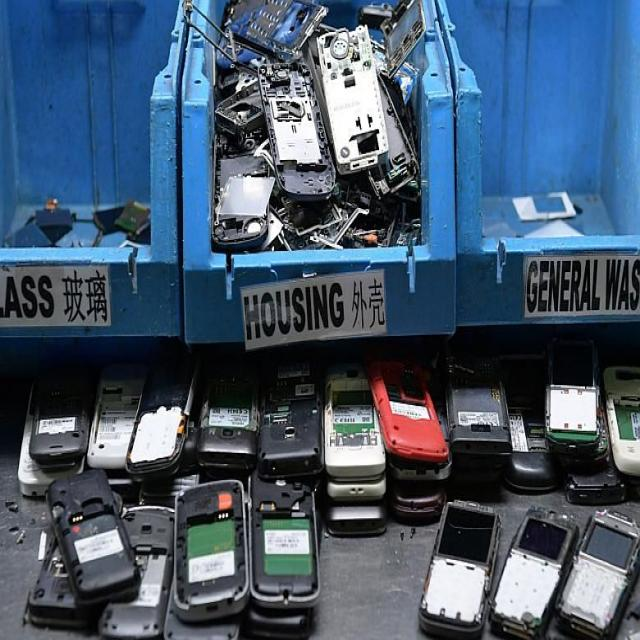hazard: (35, 256, 640, 637), (218, 0, 419, 239)
